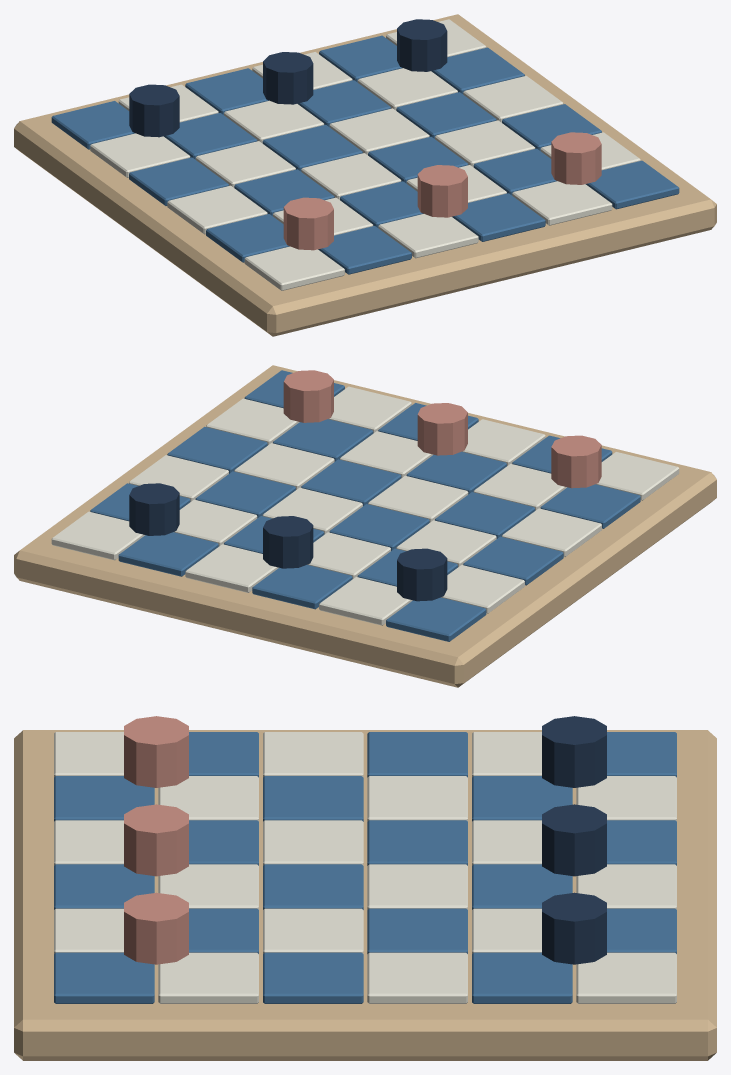
The model's file is tabletop_board_game.glb.
3 views of the same model, one above another, from view 1: azimuth 30°, elevation 25°; view 2: azimuth 150°, elevation 25°; view 3: azimuth 270°, elevation 25° (orthographic). The views are drawn at different scales.
Parts seen in each view (by area): view 1: board_square (×36), board_base, game_piece (×6); view 2: board_square (×36), board_base, game_piece (×6); view 3: board_square (×36), board_base, game_piece (×6).
Boxes of the visible parts, left/top/right/bottom form: board_square (×36): left=51, top=19, right=679, bottom=290; board_base: left=14, top=14, right=716, bottom=336; game_piece (×6): left=129, top=19, right=601, bottom=250; board_square (×36): left=51, top=370, right=679, bottom=641; board_base: left=14, top=365, right=716, bottom=687; game_piece (×6): left=129, top=370, right=601, bottom=601; board_square (×36): left=54, top=732, right=676, bottom=1003; board_base: left=14, top=730, right=716, bottom=1060; game_piece (×6): left=124, top=716, right=606, bottom=964.
Bounding box in the file's own units: 0.37 × 0.0565 × 0.37.
